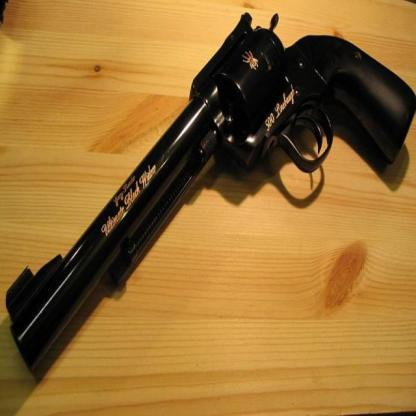weapon: (4, 12, 416, 385)
